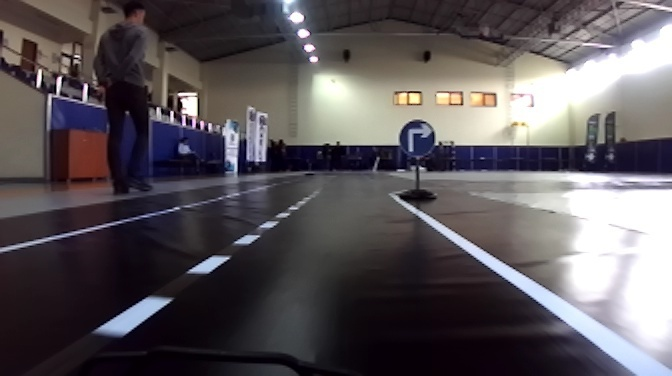saga_donus: (399, 119, 434, 154)
